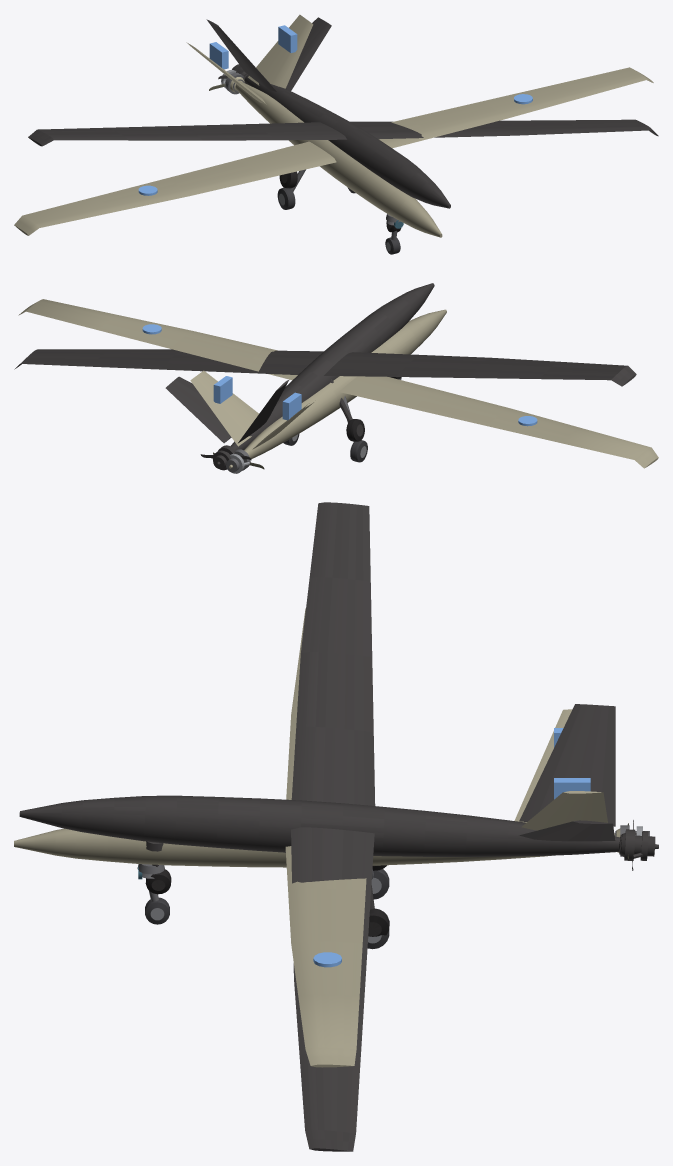
Rendered from drone__hermes_450_zik.glb.
The picture shows the model from 3 angles, top to bottom: view 1: azimuth 30°, elevation 25°; view 2: azimuth 150°, elevation 25°; view 3: azimuth 270°, elevation 25°; orthographic projection. The views are drawn at different scales.
Parts seen in each view (by area): view 1: Fuselage_Mesh, Wreck; view 2: Fuselage_Mesh, Wreck, Propeller_Mesh; view 3: Wreck, Fuselage_Mesh.
Boxes of the visible parts, x1,y1,x2,y2 form: Fuselage_Mesh: (14,14,653,254); Wreck: (28,17,658,232); Fuselage_Mesh: (18,299,658,468); Wreck: (14,283,636,470); Propeller_Mesh: (213,449,264,473); Wreck: (19,502,658,1151); Fuselage_Mesh: (14,608,614,1067).
Size of what is drawn, in the model's own units: 10.58 by 2.31 by 6.31.
